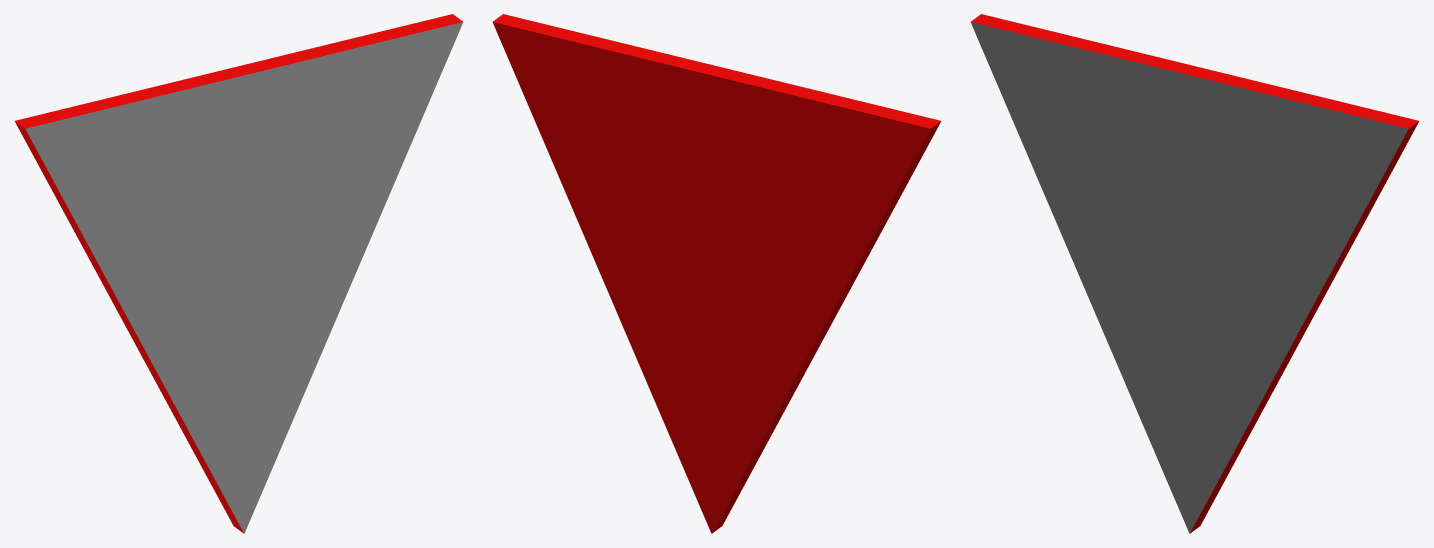
File: Bord_driehoek.FBX
The picture shows the model from 3 angles, left to right: view 1: azimuth 30°, elevation 25°; view 2: azimuth 150°, elevation 25°; view 3: azimuth 330°, elevation 25°; orthographic projection.
Parts seen in each view (by area): view 1: Bord_driehoek; view 2: Bord_driehoek; view 3: Bord_driehoek.
Part boxes in pixels (bbox=[...]): Bord_driehoek: bbox=[14, 14, 463, 533]; Bord_driehoek: bbox=[492, 14, 941, 533]; Bord_driehoek: bbox=[970, 14, 1419, 533].
Bounding box in the file's own units: 23.62 × 23.62 × 1.01.
